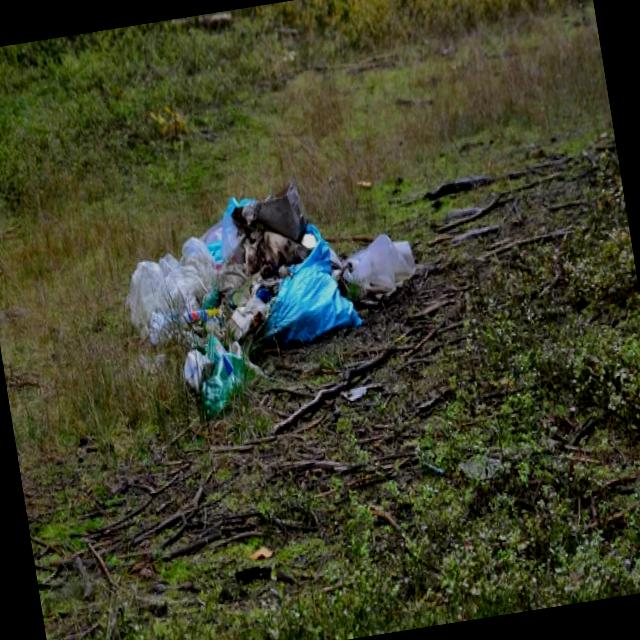garbage: (109, 132, 428, 410)
